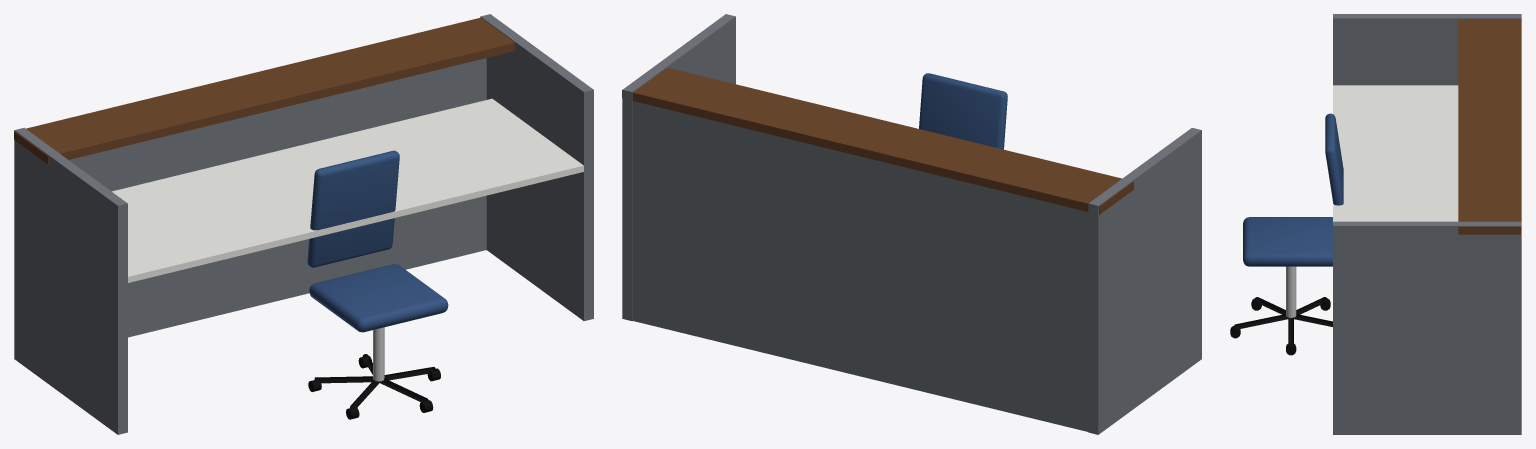
Rendered from fixture.reception_desk.glb.
The picture shows the model from 3 angles, left to right: view 1: azimuth 30°, elevation 25°; view 2: azimuth 150°, elevation 25°; view 3: azimuth 270°, elevation 25°; orthographic projection. The views are drawn at different scales.
Visible parts, largest first — view 1: desk__laminate_grey, desk__laminate_white, desk__hardwood, chairs__fabric_blue, chairs__plastic_black, chairs__steel_stainless; view 2: desk__laminate_grey, desk__hardwood, chairs__fabric_blue; view 3: desk__laminate_grey, desk__laminate_white, desk__hardwood, chairs__fabric_blue, chairs__plastic_black, chairs__steel_stainless.
Boxes of the visible parts, left/top/right/bottom form: desk__laminate_grey: left=14, top=14, right=593, bottom=434; desk__laminate_white: left=112, top=98, right=583, bottom=282; desk__hardwood: left=14, top=17, right=515, bottom=164; chairs__fabric_blue: left=307, top=150, right=448, bottom=332; chairs__plastic_black: left=308, top=354, right=440, bottom=419; chairs__steel_stainless: left=373, top=327, right=384, bottom=381; desk__laminate_grey: left=622, top=14, right=1201, bottom=434; desk__hardwood: left=622, top=67, right=1133, bottom=214; chairs__fabric_blue: left=919, top=73, right=1007, bottom=149; desk__laminate_grey: left=1333, top=14, right=1521, bottom=434; desk__laminate_white: left=1333, top=85, right=1458, bottom=221; desk__hardwood: left=1458, top=19, right=1520, bottom=234; chairs__fabric_blue: left=1243, top=113, right=1343, bottom=266; chairs__plastic_black: left=1230, top=297, right=1332, bottom=355; chairs__steel_stainless: left=1286, top=266, right=1296, bottom=317.
Bounding box in the file's own units: 2.41 × 1.1 × 1.4.
